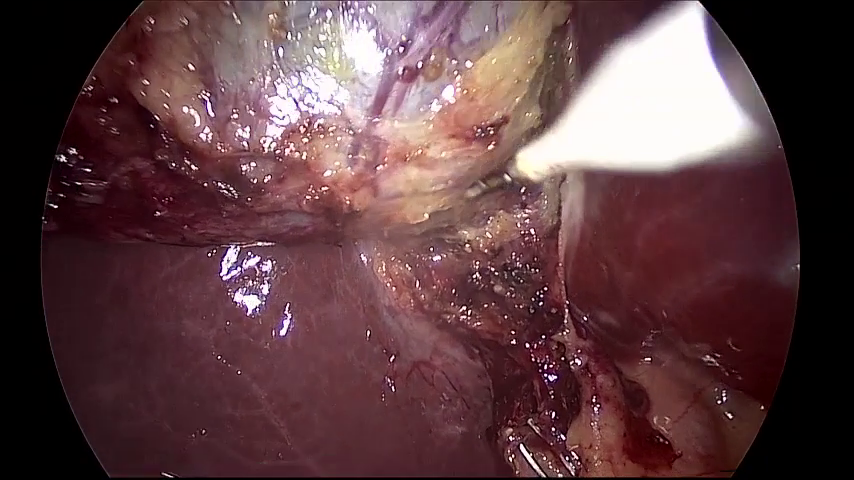lhook: (469, 1, 771, 195)
